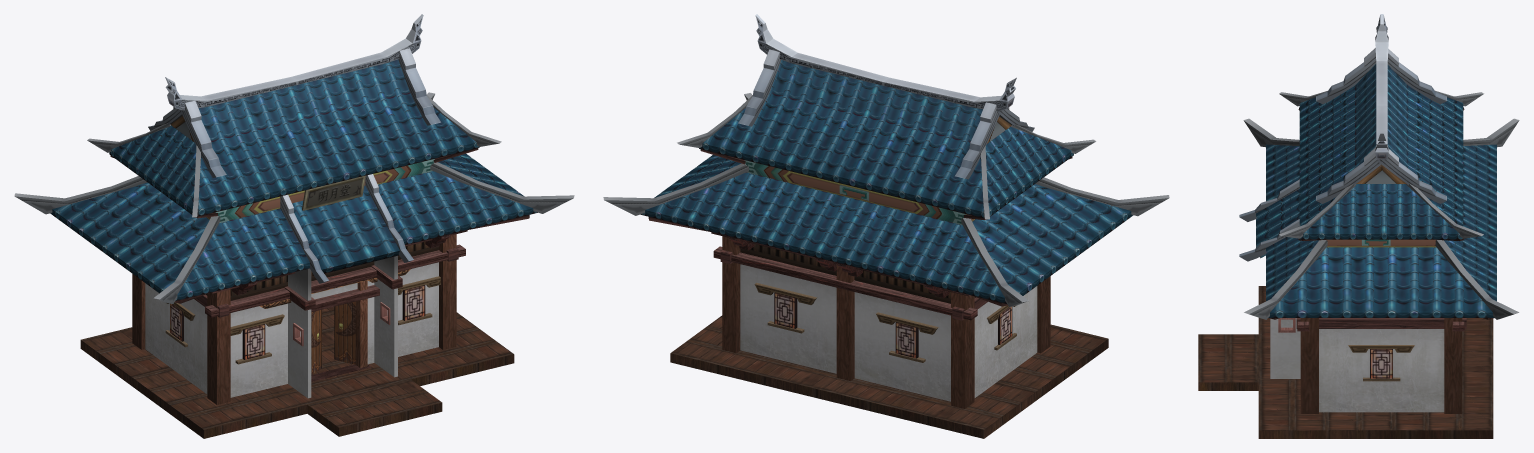
The picture shows the model from 3 angles, left to right: view 1: azimuth 30°, elevation 25°; view 2: azimuth 150°, elevation 25°; view 3: azimuth 270°, elevation 25°; orthographic projection. The views are drawn at different scales.
Parts seen in each view (by area): view 1: chinese building 002_chinese building 002_0, chinese building 002_inside_0; view 2: chinese building 002_chinese building 002_0, chinese building 002_inside_0; view 3: chinese building 002_chinese building 002_0, chinese building 002_inside_0.
Boxes of the visible parts, <box> form: chinese building 002_chinese building 002_0: <box>14,14,574,404</box>; chinese building 002_inside_0: <box>80,307,514,438</box>; chinese building 002_chinese building 002_0: <box>603,14,1169,408</box>; chinese building 002_inside_0: <box>670,315,1108,438</box>; chinese building 002_chinese building 002_0: <box>1239,14,1519,413</box>; chinese building 002_inside_0: <box>1198,286,1493,438</box>.
Bounding box in the file's own units: 4142 × 2892 × 2874.
2 materials, 2 textured.
